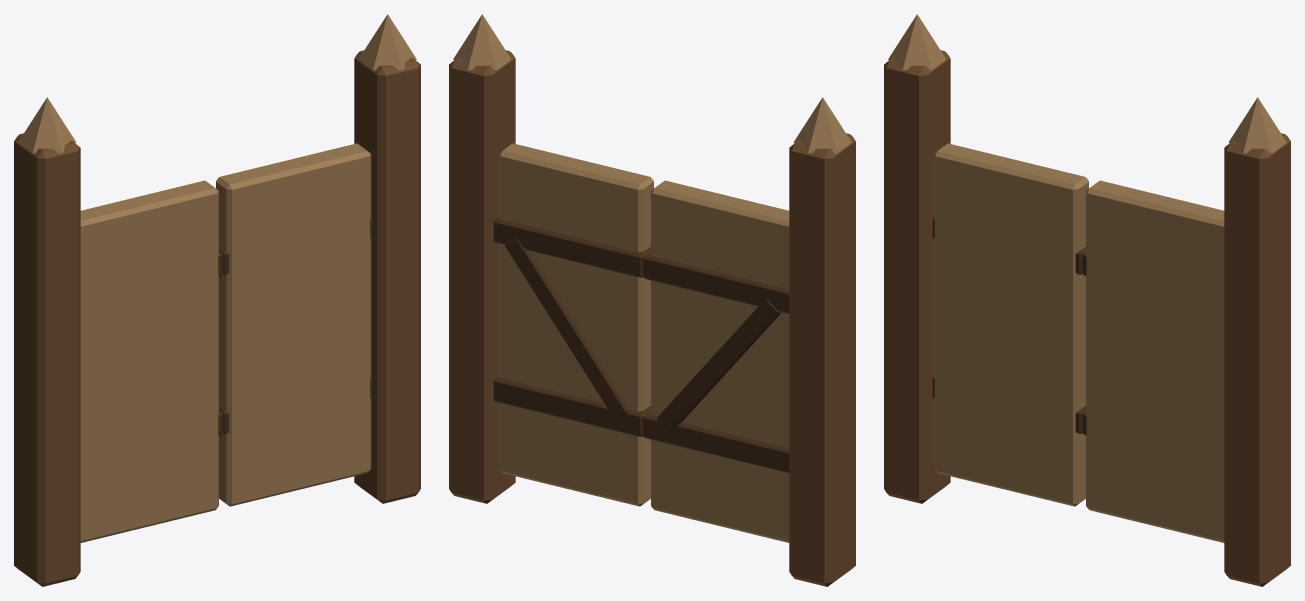
Rendered from gate_wood.fbx.
3 renders of one model, left to right at view 1: azimuth 30°, elevation 25°; view 2: azimuth 150°, elevation 25°; view 3: azimuth 330°, elevation 25°, orthographic.
Parts seen in each view (by area): view 1: Prop, DoorL, DoorR; view 2: Prop, DoorL, DoorR; view 3: Prop, DoorR, DoorL.
Boxes of the visible parts, left/top/right/bottom form: Prop: left=14, top=14, right=420, bottom=586; DoorL: left=216, top=143, right=372, bottom=506; DoorR: left=80, top=180, right=222, bottom=542; Prop: left=449, top=14, right=855, bottom=586; DoorL: left=493, top=143, right=653, bottom=506; DoorR: left=643, top=180, right=789, bottom=542; Prop: left=884, top=14, right=1290, bottom=586; DoorR: left=932, top=143, right=1088, bottom=506; DoorL: left=1082, top=180, right=1224, bottom=542.
Size of the model in its own units: 1.06 by 0.14 by 1.26.
